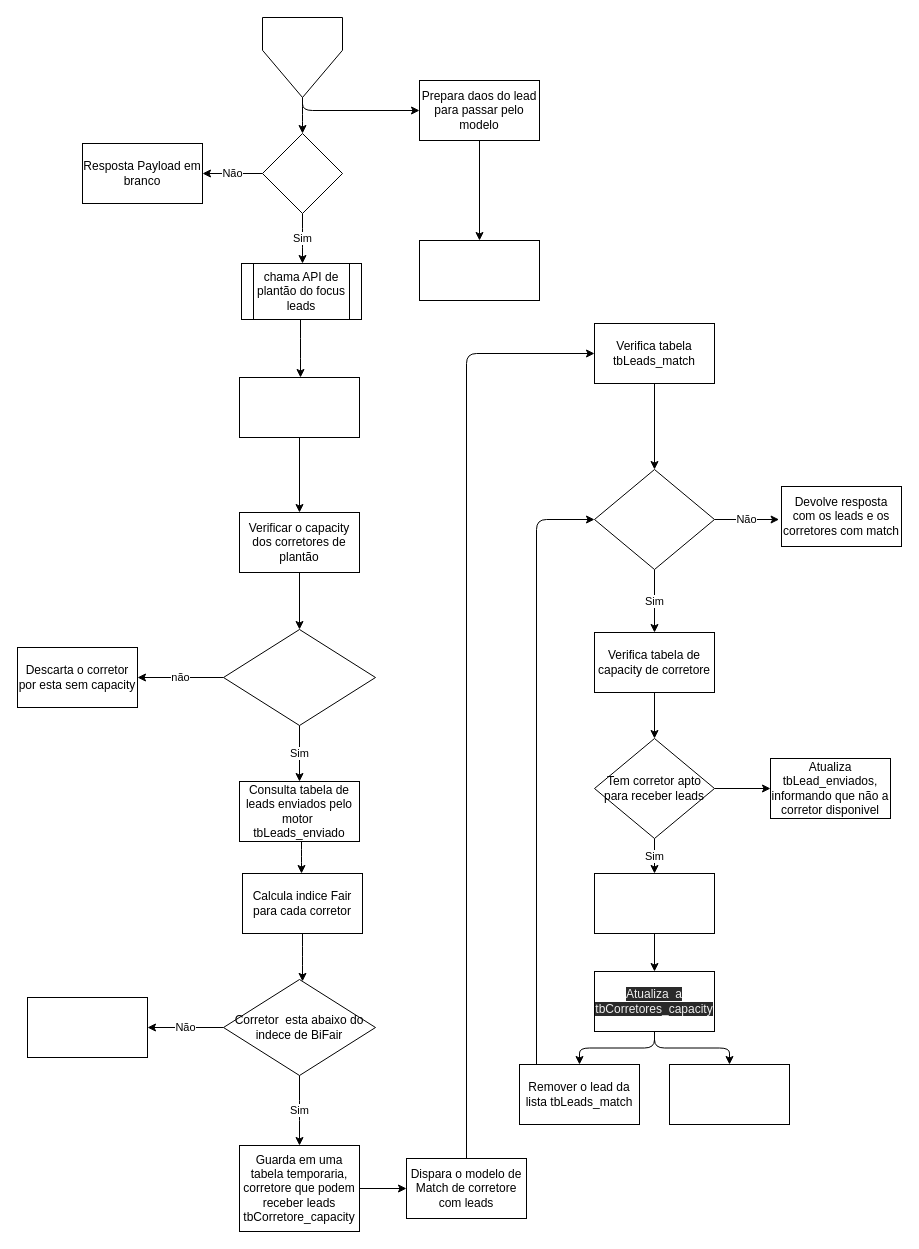
The diagram is 919 pixels wide and 1249 high, and some of its shapes have lost their labels. The centre of each missing label's shape, as x and y in pixels:
API de leads e chamada: the point at 302,57
Atualiza tabel tbLeads_enviados, com o match do corretor: the point at 729,1094
Corretor tem capacity disponivel: the point at 299,677
Descarta o corretor por ter recebido leads acima do Bifair: the point at 87,1027
Guarda em uma tabela memoria, tb_leads_match: the point at 479,270
Payload ok: the point at 302,173
Roda modelo de recmendação de corretor;: the point at 654,903
Tem lead na lista: the point at 654,519
Verifica quais corretores estão de plantão: the point at 299,407
